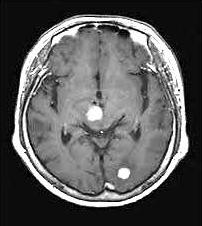Normal_Brain: (1, 7, 197, 226)
